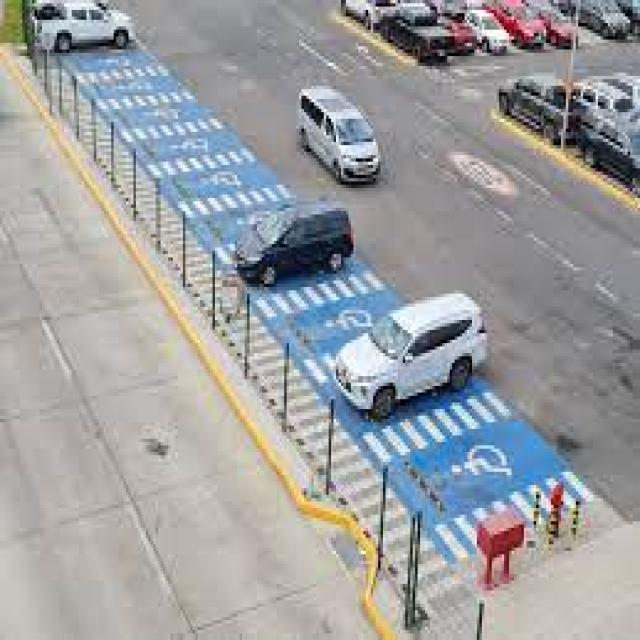discapacitados: (55, 33, 307, 254), (365, 396, 564, 539), (253, 272, 411, 358)
ocupado: (326, 291, 510, 430), (342, 0, 638, 74), (494, 60, 637, 201), (221, 192, 366, 308), (22, 0, 140, 64)
